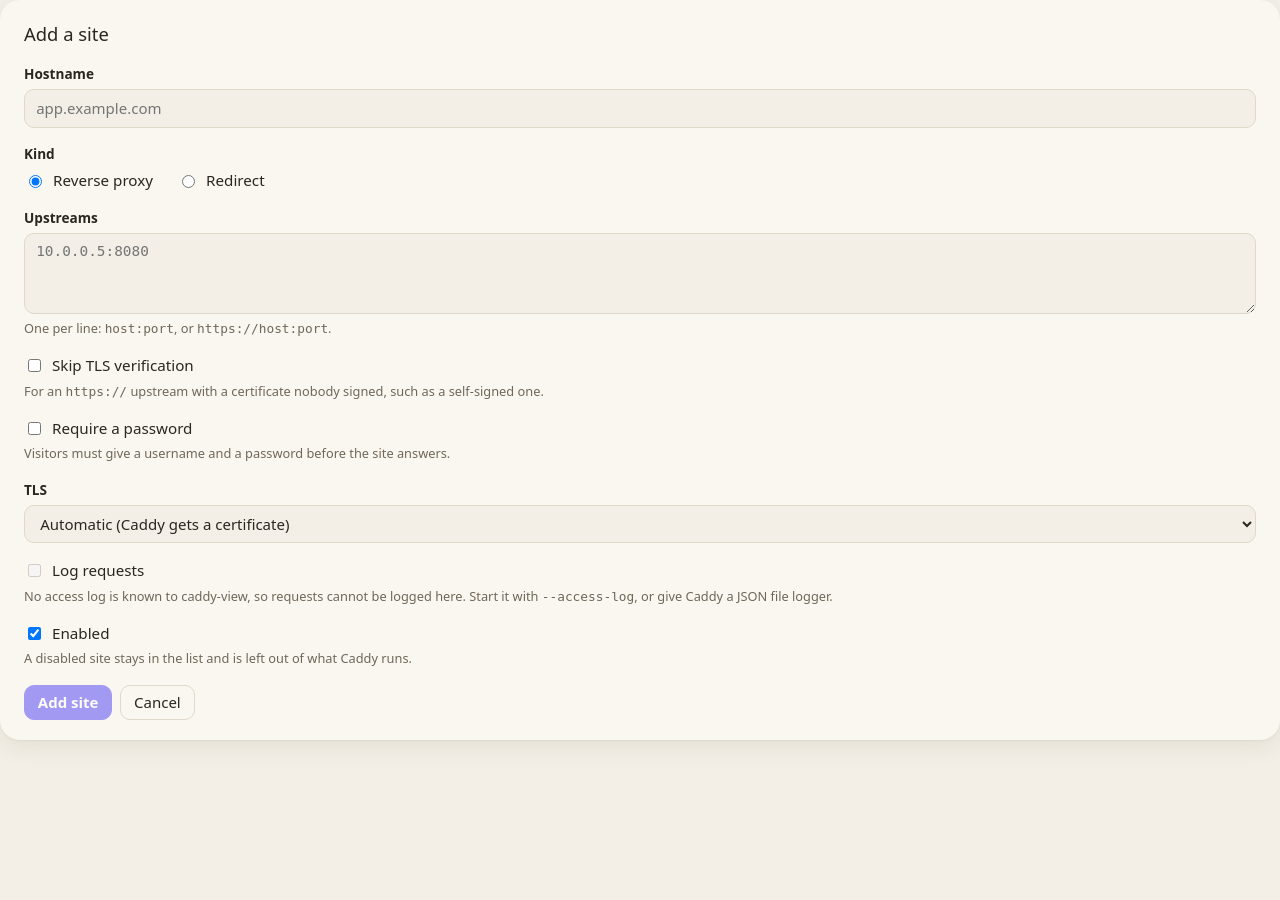
Scenario: SiteWizard for a new site › swaps the proxy fields for the redirect ones
This screenshot has width=1280, height=900.
What coordinates should you click on to do the following:
click the radio button labelled "Redirect"
I would click on:
 (188, 182)
Its box is [182, 175, 195, 188].
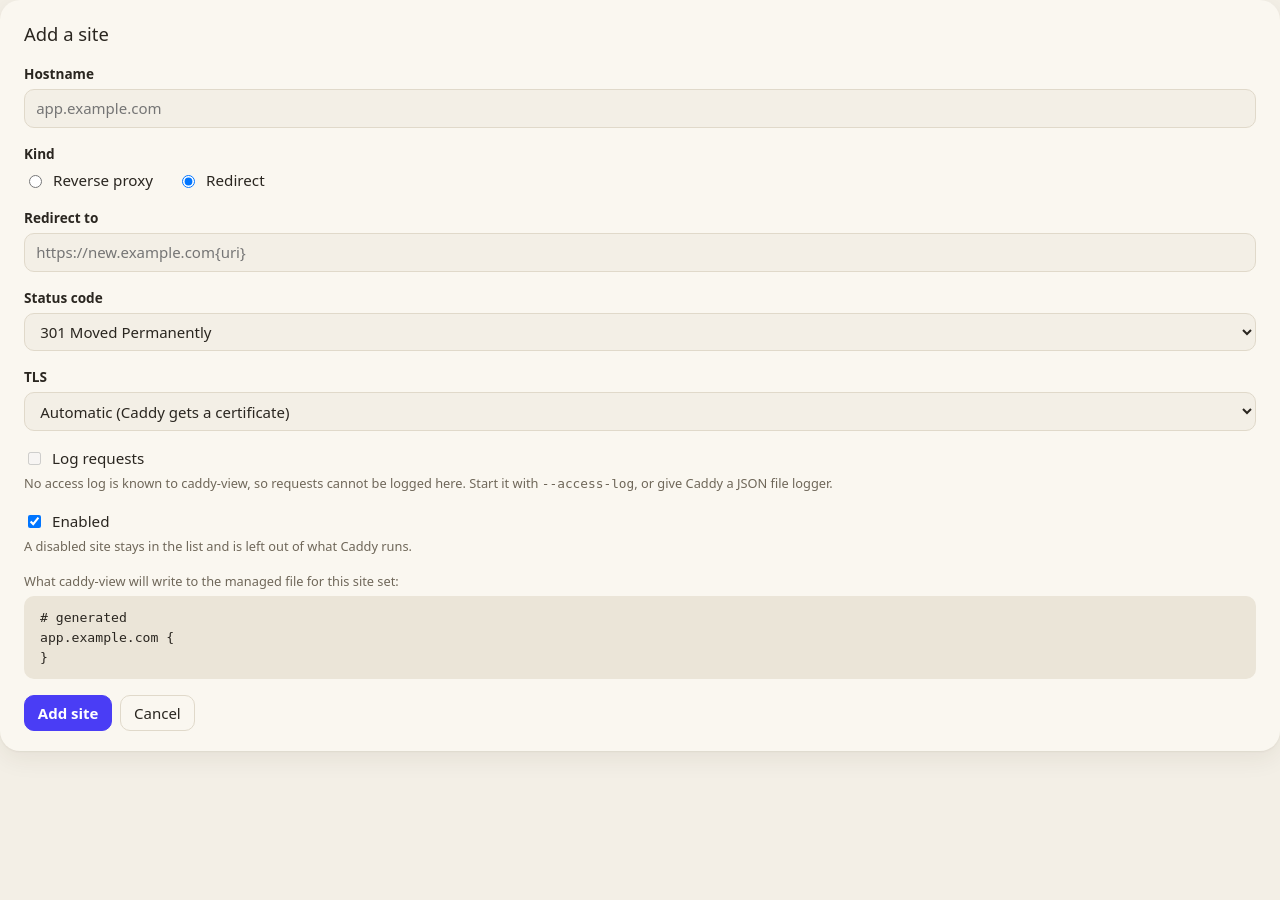
Check: the label labelled "Upstreams" is gone
Check: the label labelled "Skip TLS verification" is gone
Check: the field labelled "Redirect to" is shown, box [24, 233, 1256, 272]
